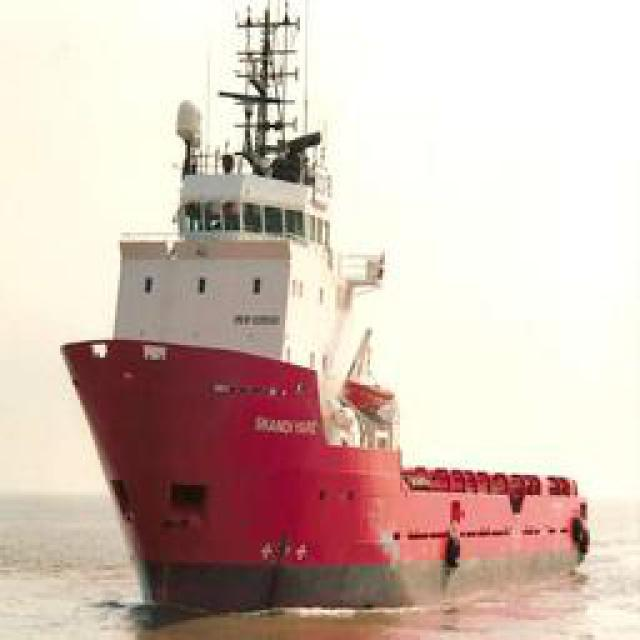Ship: (40, 1, 608, 628)
